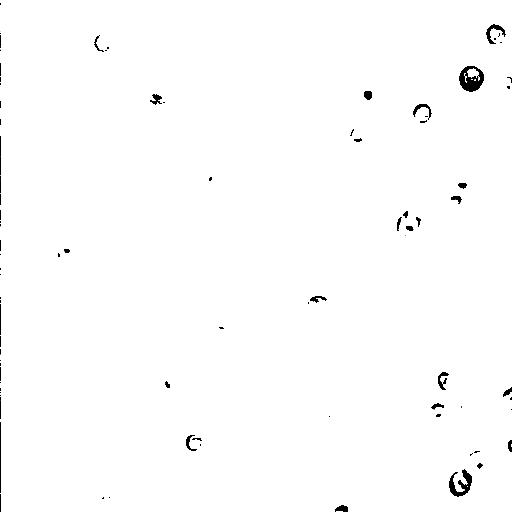micro-algae: (419, 411, 511, 511), (1, 193, 65, 275), (45, 226, 112, 290), (462, 1, 511, 75), (347, 199, 407, 257), (1, 29, 55, 82), (371, 13, 414, 58), (38, 1, 93, 35), (135, 0, 190, 33), (79, 185, 115, 221), (349, 76, 383, 109), (187, 161, 223, 191), (0, 105, 31, 139), (393, 208, 427, 238), (457, 65, 485, 95), (151, 93, 183, 119), (91, 483, 119, 511), (116, 337, 145, 363), (306, 294, 334, 319), (464, 451, 493, 475), (449, 173, 478, 196), (449, 469, 474, 495), (160, 369, 185, 392), (57, 241, 79, 265), (484, 23, 507, 45), (412, 102, 433, 126), (436, 370, 457, 393), (347, 125, 367, 145), (183, 433, 203, 453), (493, 75, 511, 97), (94, 33, 113, 53), (447, 194, 465, 211), (501, 383, 511, 410), (429, 402, 444, 419), (331, 503, 350, 512), (505, 436, 512, 455)
